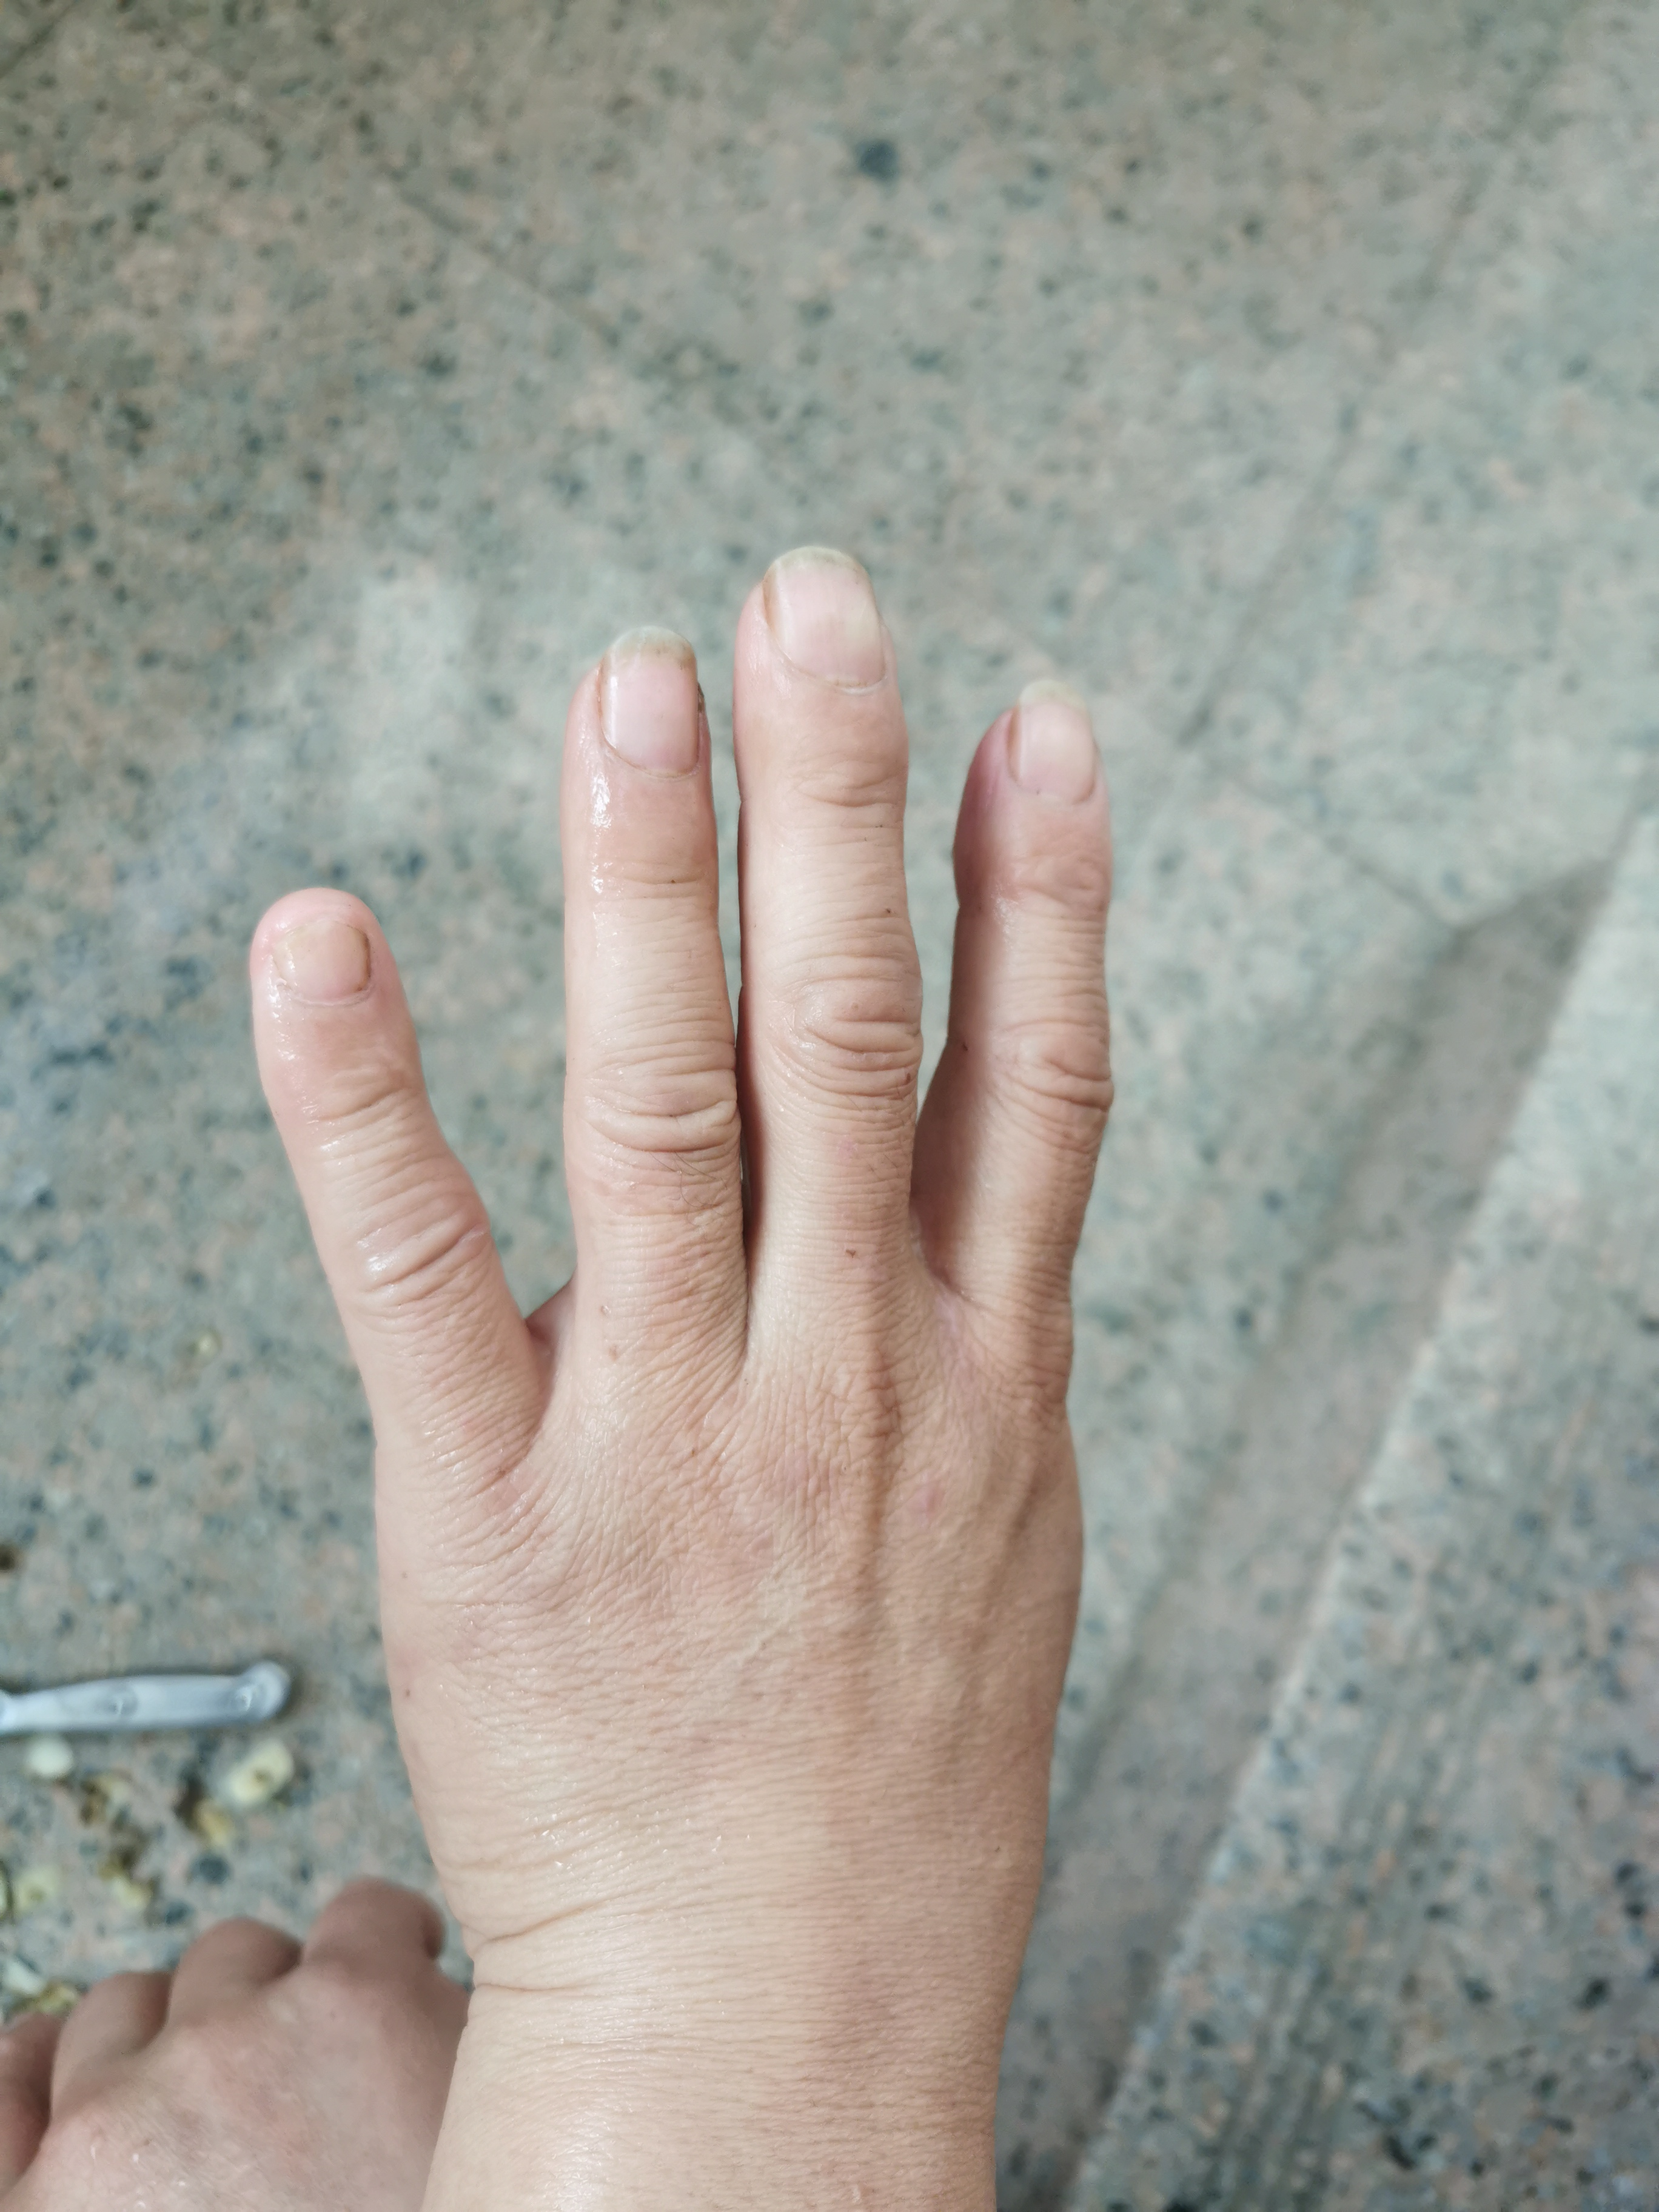right: (237, 524, 1178, 2001)
